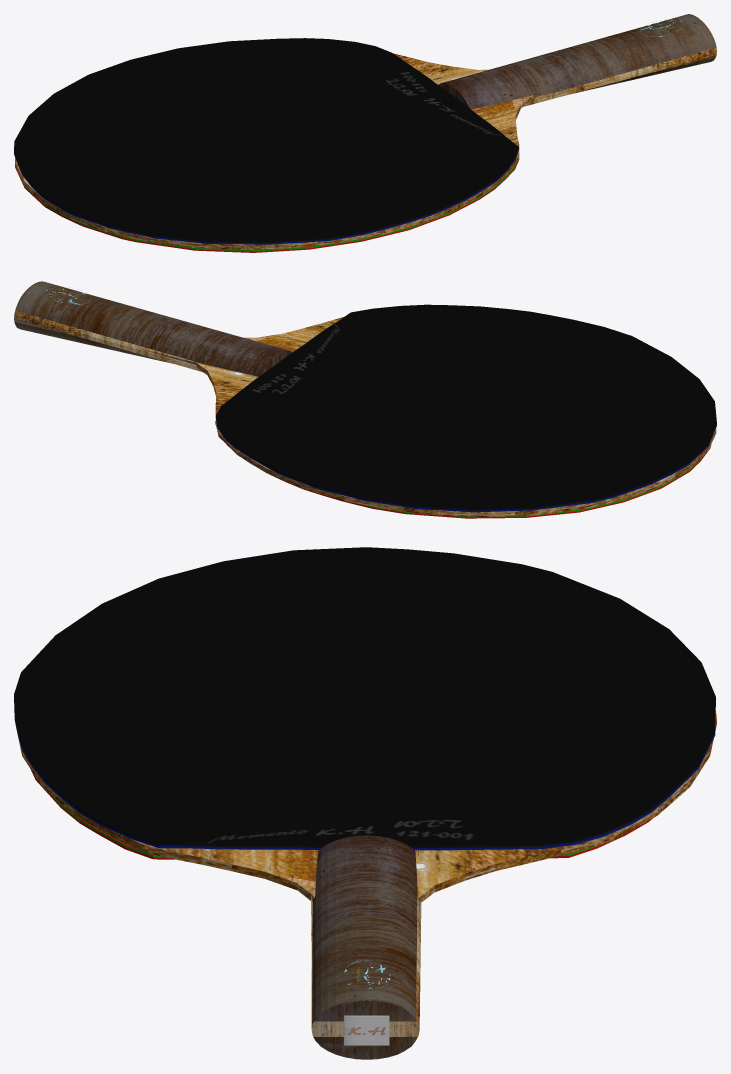
Rendered from racket_.fbx.
The picture shows the model from 3 angles, top to bottom: view 1: azimuth 30°, elevation 25°; view 2: azimuth 150°, elevation 25°; view 3: azimuth 270°, elevation 25°; orthographic projection. The views are drawn at different scales.
Visible parts, largest first — view 1: entyu004, entyu, entyu001, entyu005; view 2: entyu004, entyu, entyu001, entyu005; view 3: entyu004, entyu, entyu001, rippo, entyu005.
Boxes of the visible parts, x1=… form: entyu004: x1=14, y1=38, x2=518, y2=244; entyu: x1=438, y1=14, x2=716, y2=109; entyu001: x1=15, y1=53, x2=533, y2=249; entyu005: x1=15, y1=159, x2=519, y2=252; entyu004: x1=216, y1=304, x2=716, y2=512; entyu: x1=14, y1=281, x2=292, y2=377; entyu001: x1=196, y1=317, x2=716, y2=517; entyu005: x1=215, y1=420, x2=711, y2=518; entyu004: x1=14, y1=547, x2=715, y2=850; entyu: x1=310, y1=835, x2=421, y2=1059; entyu001: x1=16, y1=711, x2=716, y2=902; rippo: x1=344, y1=1015, x2=389, y2=1045; entyu005: x1=31, y1=770, x2=652, y2=859.
Bounding box in the file's own units: 19.28 × 1.12 × 11.95.
